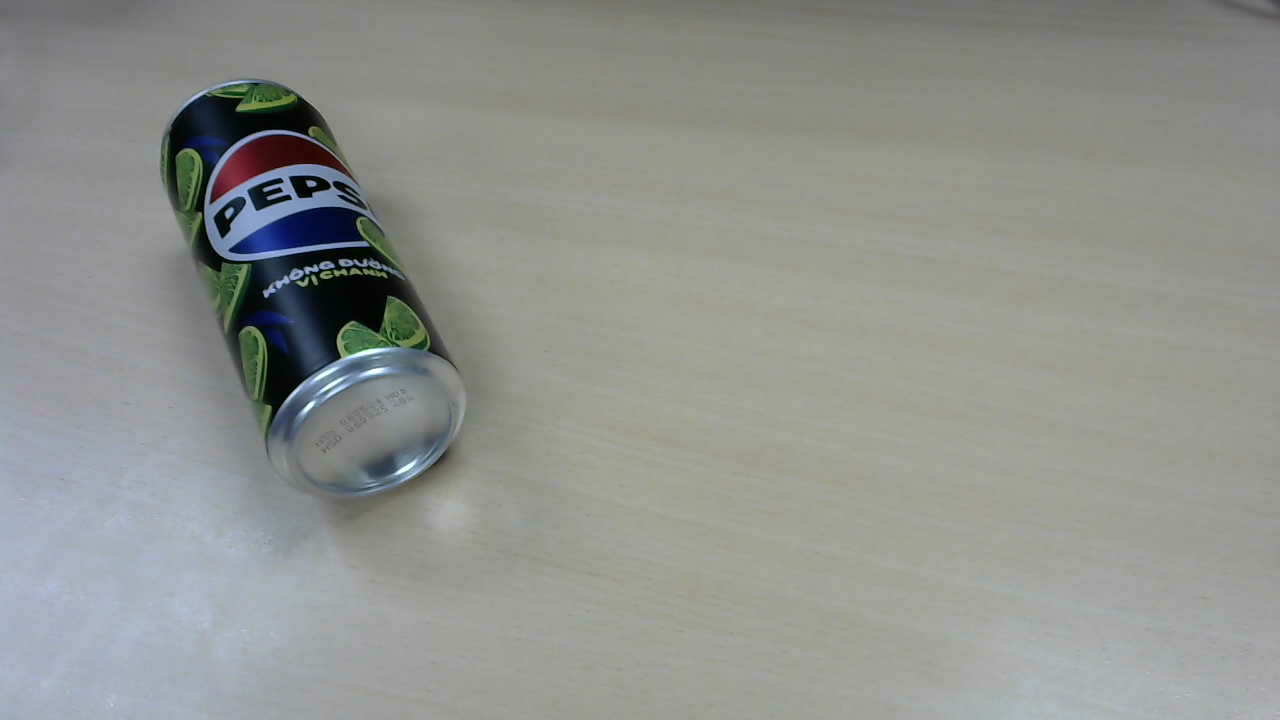Pepsi: (162, 80, 468, 503)
